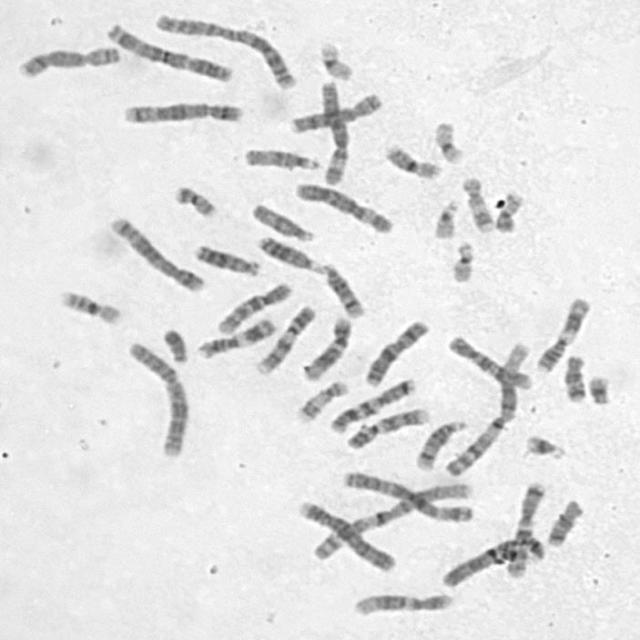A1: (306, 477, 475, 564), (439, 336, 532, 478)
A2: (148, 8, 300, 90), (122, 336, 190, 458)
A3: (103, 19, 237, 83), (338, 466, 473, 524)
B4: (291, 495, 399, 573), (439, 532, 548, 589)
B5: (104, 211, 208, 293), (119, 97, 246, 126)
C10: (444, 329, 536, 392), (212, 278, 294, 336)
C11: (530, 293, 592, 374), (193, 313, 279, 360)
C12: (300, 313, 354, 383), (350, 589, 455, 617)
C6: (291, 178, 396, 235), (315, 75, 351, 186)
C7: (326, 373, 418, 435), (501, 476, 548, 580)
C8: (285, 88, 384, 134), (13, 41, 124, 80)
C9: (253, 302, 318, 376), (342, 403, 432, 450)
D13: (254, 231, 321, 272), (190, 240, 262, 277)
D14: (412, 415, 469, 472), (316, 259, 368, 319)
D15: (248, 198, 316, 242), (240, 143, 324, 173)
E16: (55, 285, 124, 326), (381, 140, 444, 180)
E17: (293, 376, 350, 423), (459, 172, 497, 235)
E18: (543, 494, 587, 548), (559, 350, 589, 404)
F19: (315, 38, 356, 82), (430, 117, 466, 165)
F20: (170, 181, 220, 219), (492, 188, 526, 234)
G21: (521, 430, 569, 461), (584, 371, 614, 406)
G22: (429, 196, 462, 240), (447, 237, 477, 284)
X: (359, 315, 432, 388)
Y: (158, 324, 190, 364)
